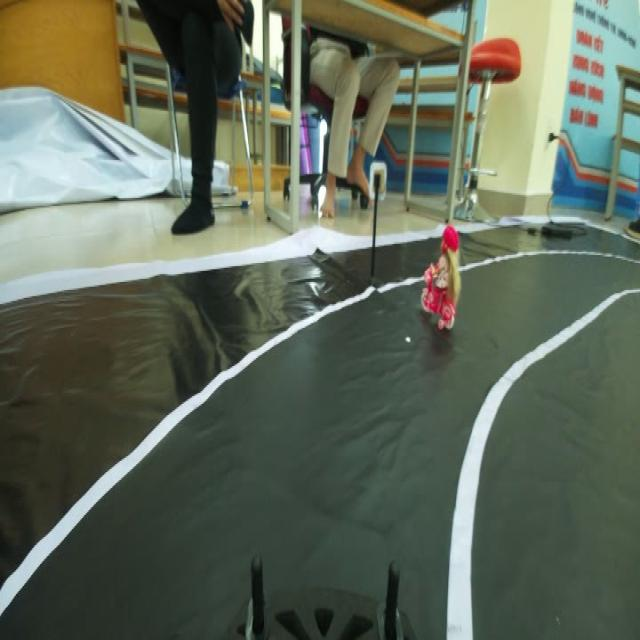pedestrian: (419, 215, 471, 335)
